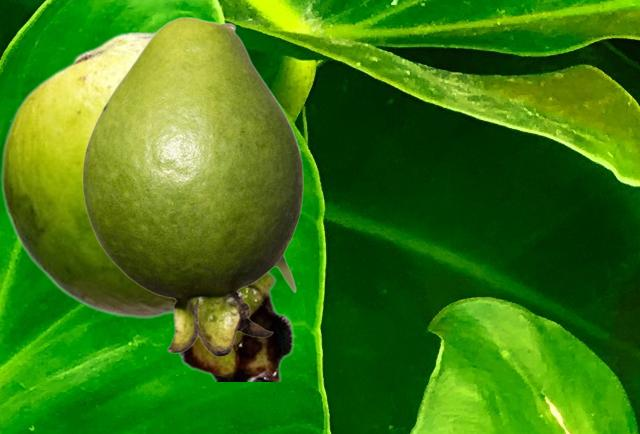guava: (0, 31, 295, 380), (82, 16, 302, 356)
